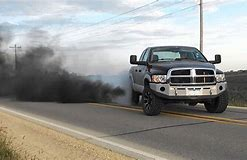smoke: (1, 44, 125, 103)
